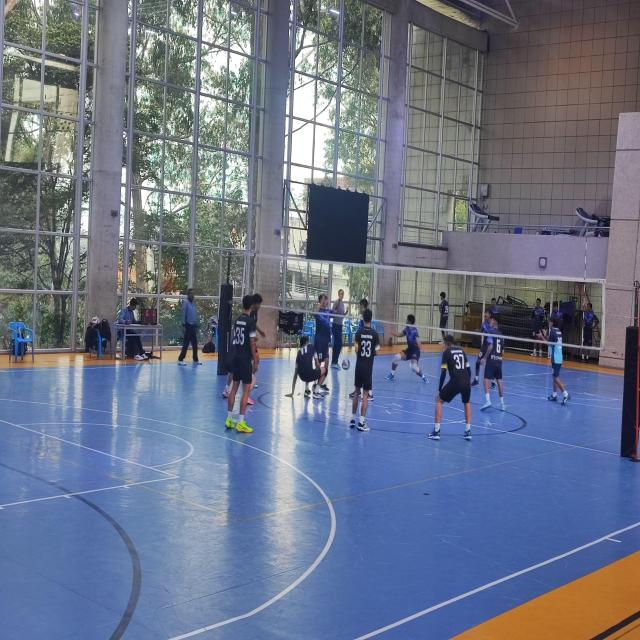volleyball: (342, 359, 350, 370), (91, 316, 100, 324)
